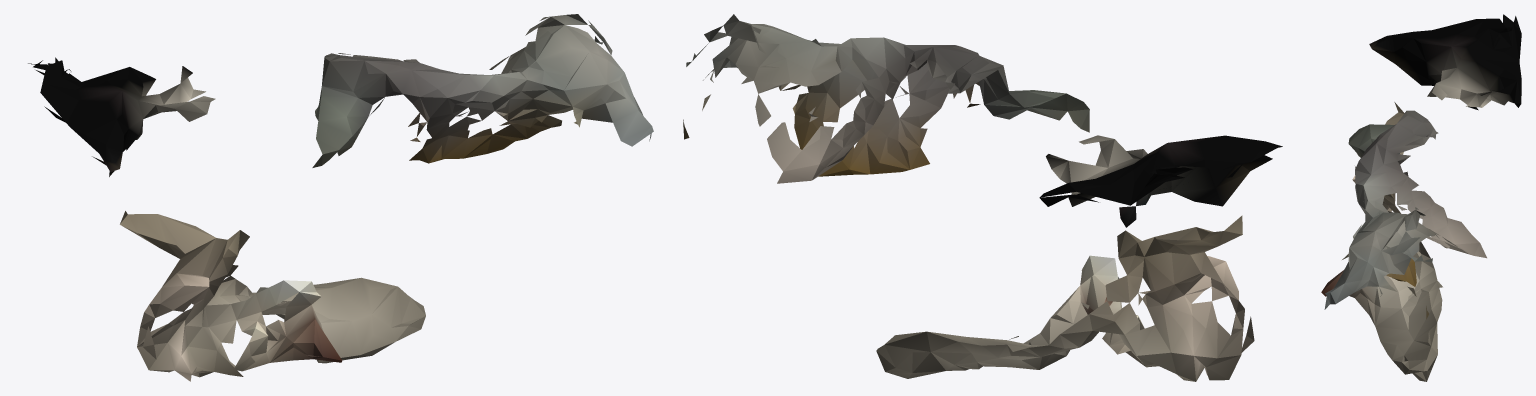
The model's file is oven_lower_storage_drawer__oven_lower_storage_drawer.scan.glb.
3 renders of one model, left to right at view 1: azimuth 30°, elevation 25°; view 2: azimuth 150°, elevation 25°; view 3: azimuth 270°, elevation 25°, orthographic. The views are drawn at different scales.
Parts seen in each view (by area): view 1: geometry_0; view 2: geometry_0; view 3: geometry_0.
Part boxes in pixels (x1,y1,x2,y2): geometry_0: (28, 14, 653, 381); geometry_0: (683, 14, 1282, 381); geometry_0: (1321, 14, 1521, 381).
Bounding box in the file's own units: 0.8836 × 0.491 × 0.365.
